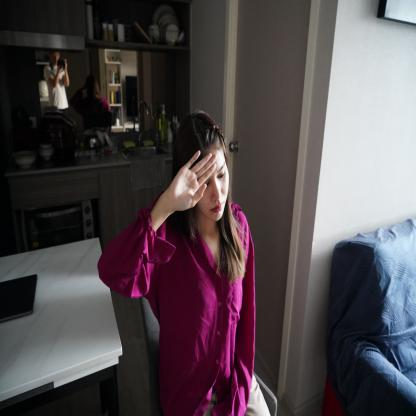Sick: (153, 142, 221, 216)
